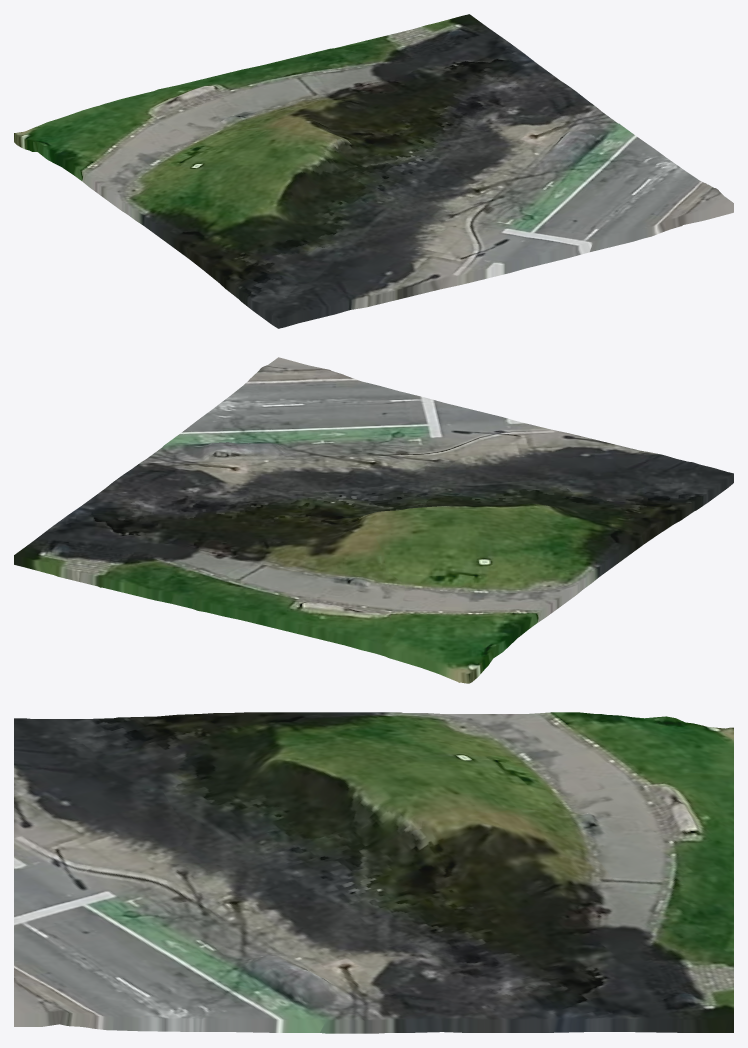
File: z20-167768-405193-h0-yup-uvflip-v3-world.glb
3 renders of one model, top to bottom at view 1: azimuth 30°, elevation 25°; view 2: azimuth 150°, elevation 25°; view 3: azimuth 270°, elevation 25°, orthographic. The views are drawn at different scales.
Size of the model in its own units: 30.16 by 2.72 by 30.32.
Materials: 1 (1 with a texture image).
